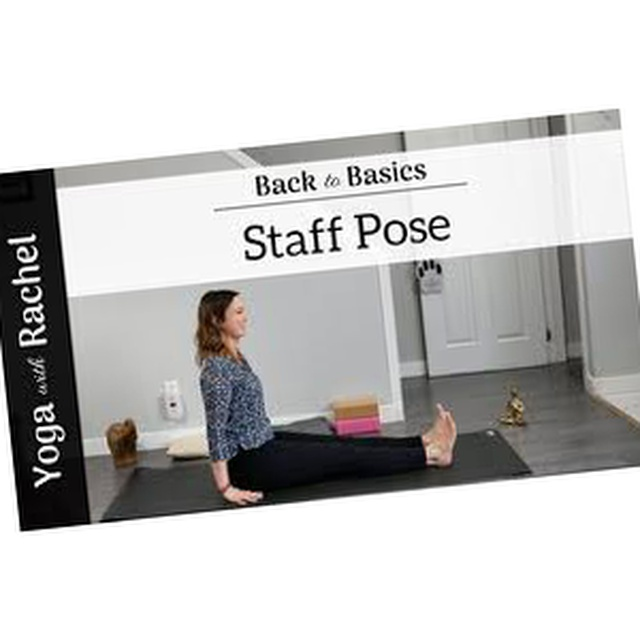Staff_Pose: (193, 289, 459, 507)
